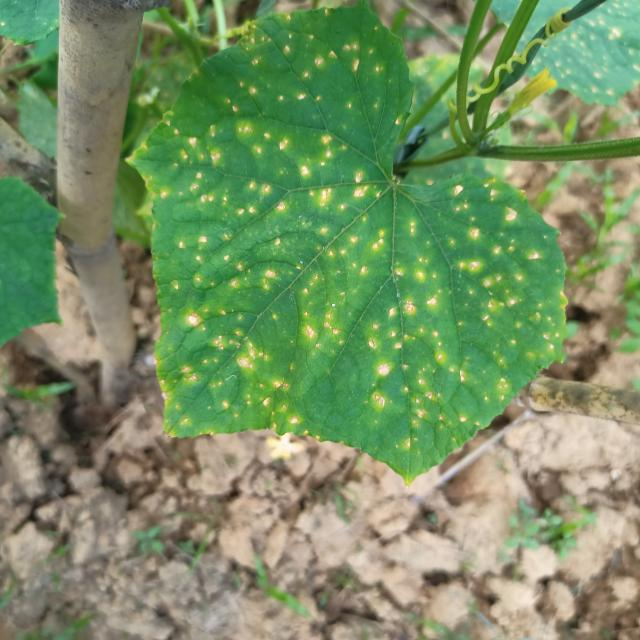disease_cucumber: (157, 22, 559, 457)
